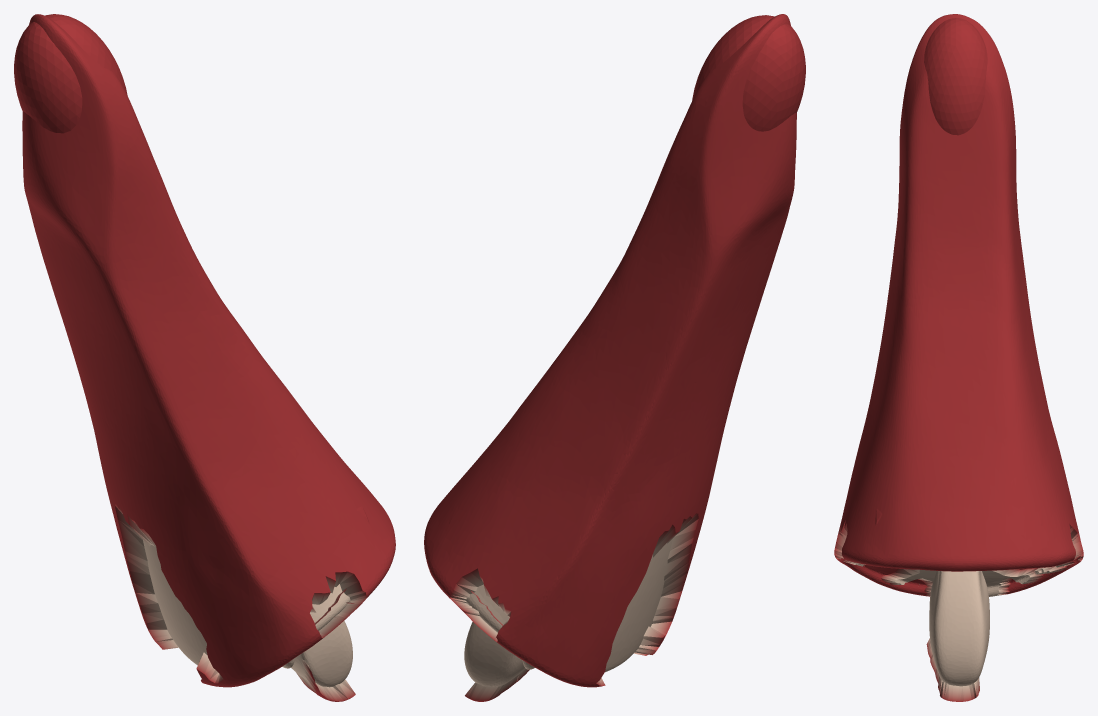
File: arm_L.glb
The picture shows the model from 3 angles, left to right: view 1: azimuth 30°, elevation 25°; view 2: azimuth 150°, elevation 25°; view 3: azimuth 270°, elevation 25°; orthographic projection. The views are drawn at different scales.
Parts seen in each view (by area): view 1: geometry_0; view 2: geometry_0; view 3: geometry_0.
Boxes of the visible parts, x1=… form: geometry_0: x1=14, y1=14, x2=395, y2=701; geometry_0: x1=424, y1=14, x2=805, y2=701; geometry_0: x1=834, y1=14, x2=1083, y2=701.
Size of the model in its own units: 0.3277 by 0.675 by 0.2644.
